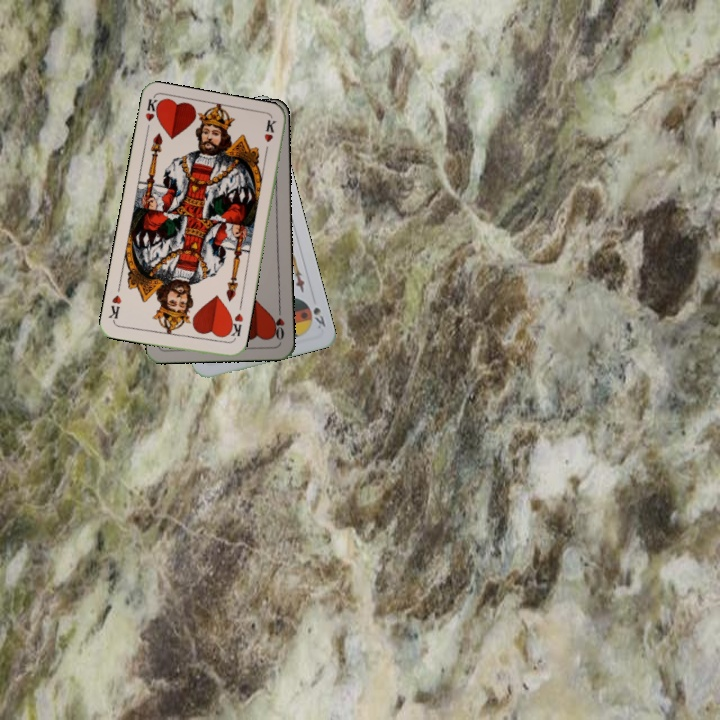HK: (141, 95, 163, 136), (223, 309, 246, 344)
HO: (270, 303, 287, 343)
SK: (309, 303, 328, 332)
